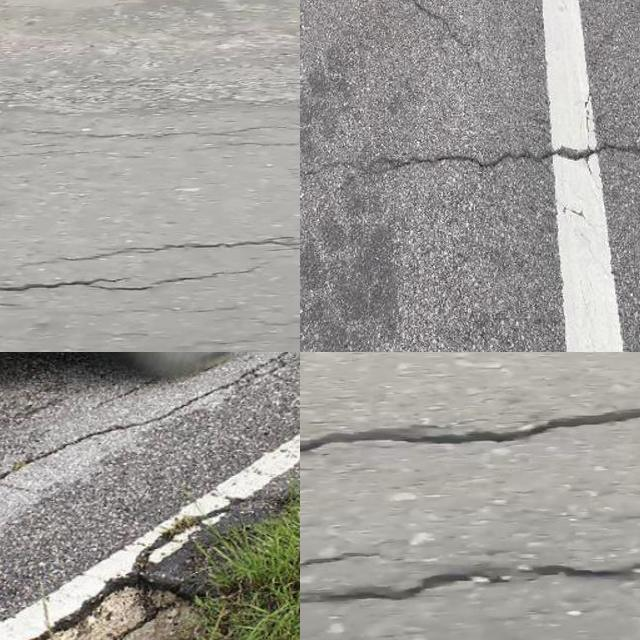Melintang: (300, 388, 640, 467), (0, 233, 300, 314), (300, 549, 640, 613), (300, 127, 640, 190), (355, 0, 502, 87), (300, 544, 390, 577)
Pinggir: (8, 519, 300, 640)
